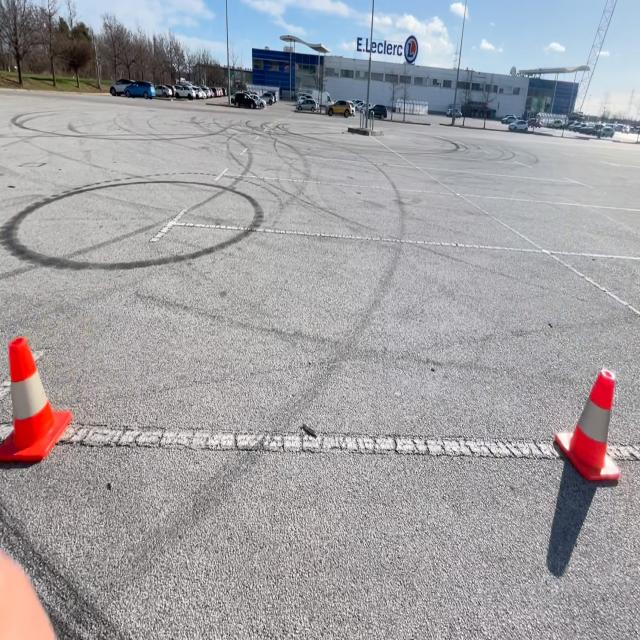orange_cone: (0, 339, 73, 465), (554, 368, 622, 485)
